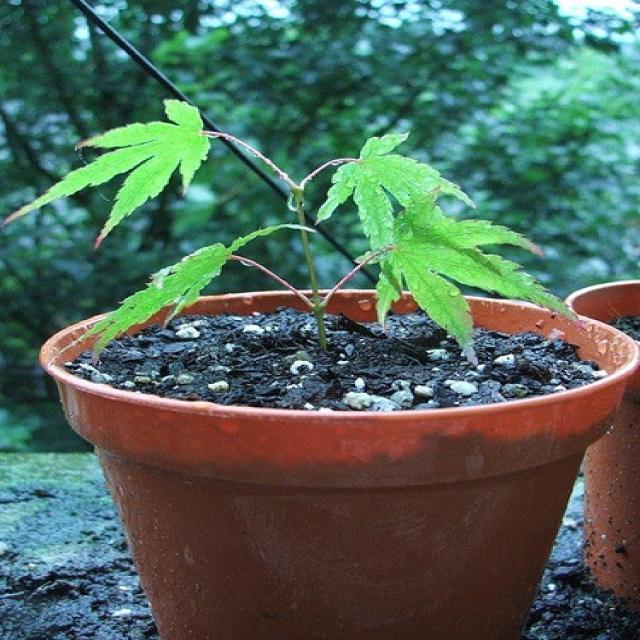pottedplant: (2, 96, 638, 639), (562, 276, 638, 606)
